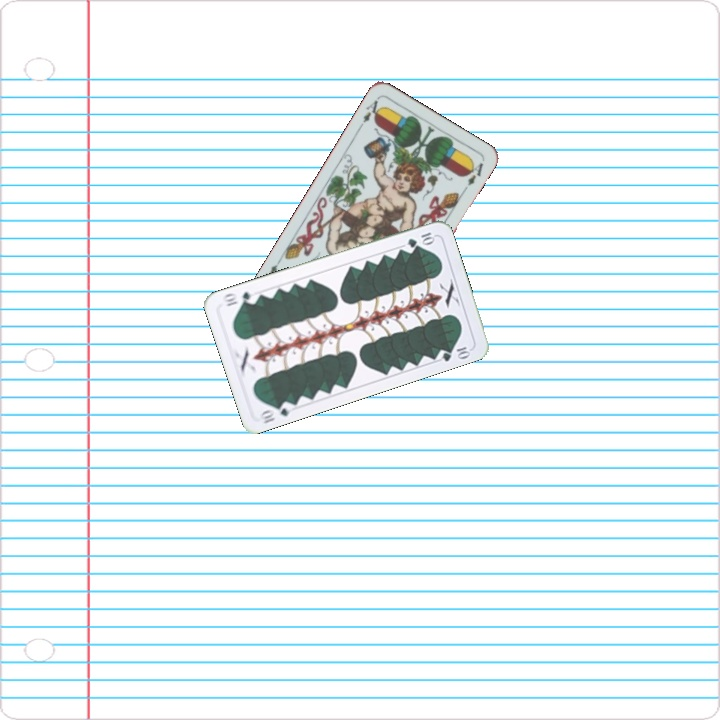EA: (355, 94, 385, 131)
G10: (255, 398, 296, 426), (403, 228, 437, 250)
